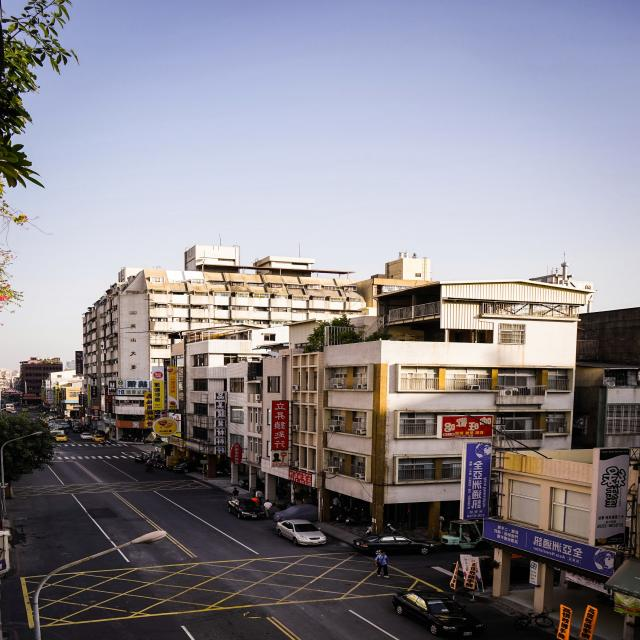adult: (374, 551, 391, 578), (263, 499, 272, 519), (232, 486, 239, 499)
